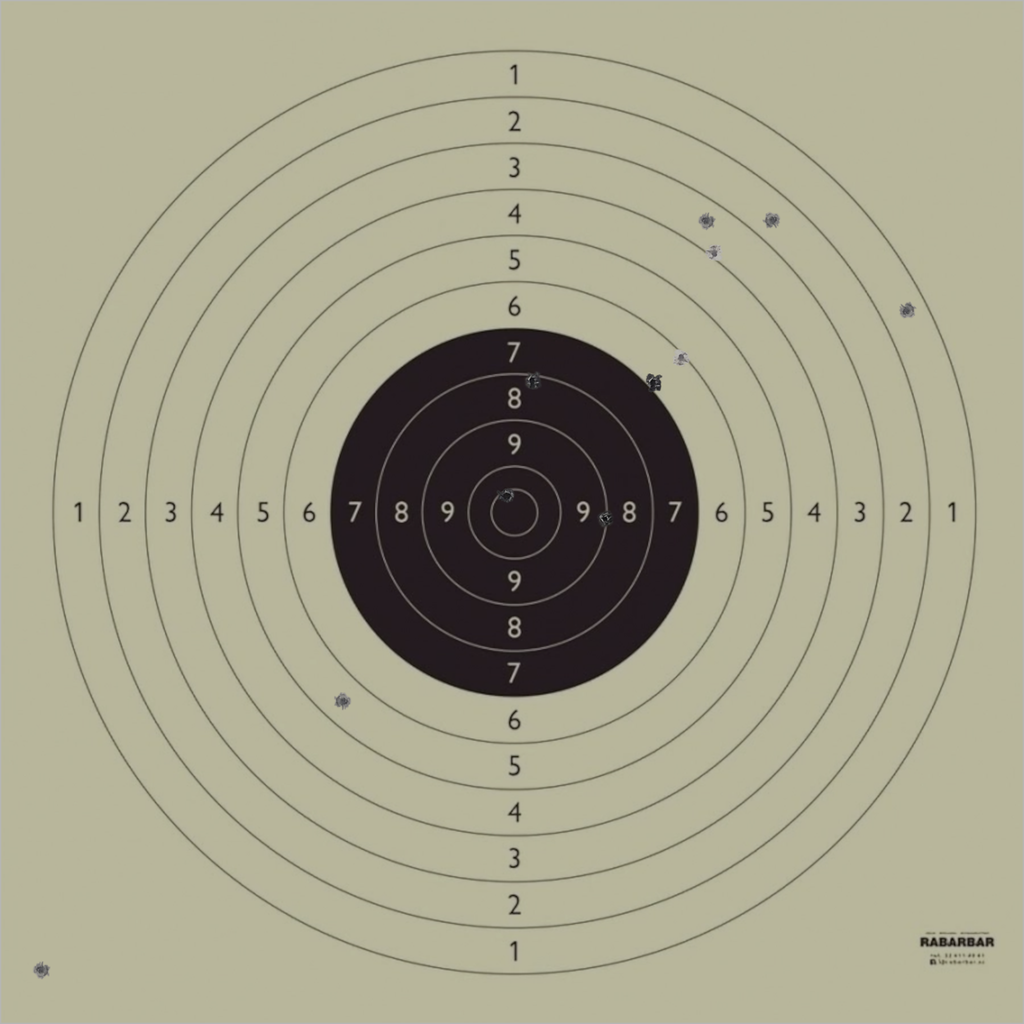0 punktow: (32, 961, 50, 979)
1 punkt: (897, 302, 916, 320)
10 punktow: (497, 487, 516, 505)
2 punkty: (763, 211, 782, 229)
3 punkty: (697, 212, 715, 230)
4 punkty: (705, 244, 723, 262)
5 punktow: (334, 692, 353, 711)
6 punktow: (672, 349, 691, 367)
7 punktow: (644, 374, 663, 393)
8 punktow: (523, 371, 542, 390)
9 punktow: (595, 509, 614, 528)
